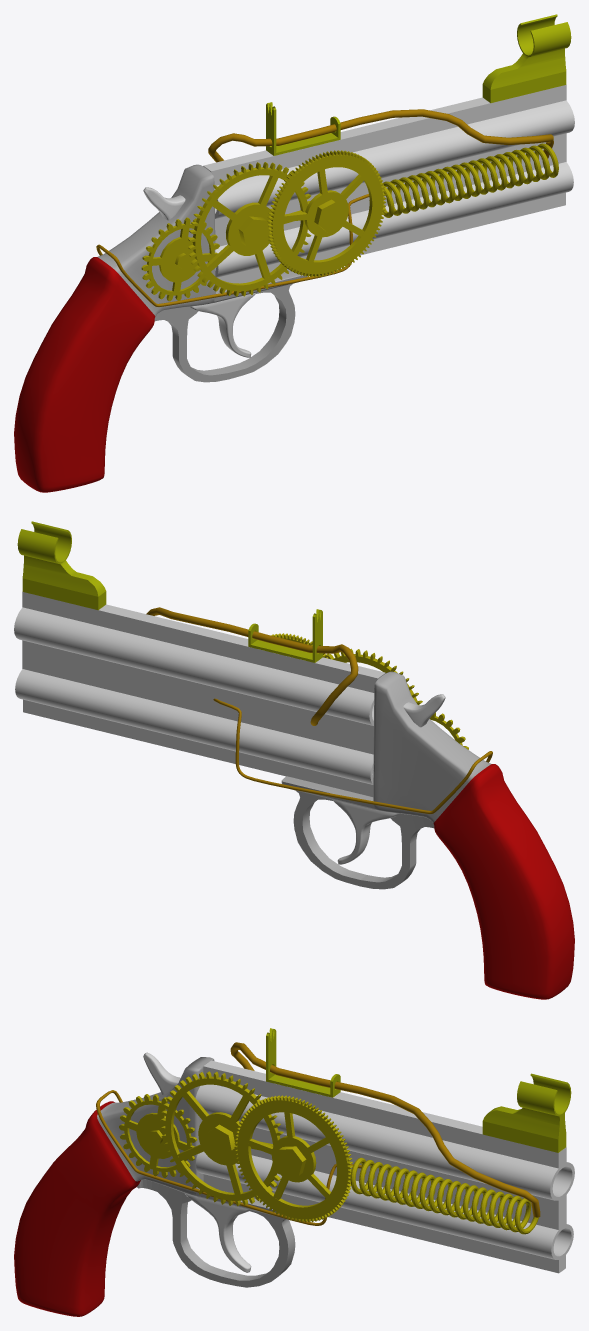
The model's file is pistol.fbx.
The picture shows the model from 3 angles, top to bottom: view 1: azimuth 30°, elevation 25°; view 2: azimuth 150°, elevation 25°; view 3: azimuth 330°, elevation 25°; orthographic projection.
Parts seen in each view (by area): view 1: pCube1, pPipe3, pCube8, polySurface9, pHelix1, pPipe7, polySurface11, pCylinder7, pCube6, pCube5, pCylinder6, pCube7; view 2: pPipe3, pCube1, pPipe7, pCylinder7, pCylinder6, pCube6, pCube5, polySurface9, pCube7; view 3: pPipe3, pCube1, pCube8, polySurface9, pHelix1, pPipe7, pCylinder7, polySurface11, pCube6, pCube5, pCylinder6, pCube7.
Part boxes in pixels (x1=…): pCube1: x1=14, y1=164, x2=306, y2=492; pPipe3: x1=203, y1=85, x2=574, y2=289; pCube8: x1=267, y1=150, x2=386, y2=277; polySurface9: x1=188, y1=162, x2=311, y2=296; pHelix1: x1=369, y1=143, x2=558, y2=217; pPipe7: x1=482, y1=14, x2=571, y2=103; polySurface11: x1=141, y1=217, x2=219, y2=301; pCylinder7: x1=208, y1=109, x2=553, y2=162; pCube6: x1=190, y1=292, x2=256, y2=357; pCube5: x1=266, y1=102, x2=340, y2=155; pCylinder6: x1=96, y1=193, x2=369, y2=306; pCube7: x1=143, y1=187, x2=185, y2=220; pPipe3: x1=14, y1=592, x2=385, y2=796; pCube1: x1=281, y1=671, x2=574, y2=999; pPipe7: x1=17, y1=521, x2=106, y2=610; pCylinder7: x1=146, y1=607, x2=358, y2=725; pCylinder6: x1=213, y1=698, x2=492, y2=813; pCube6: x1=332, y1=799, x2=398, y2=864; pCube5: x1=248, y1=609, x2=322, y2=662; polySurface9: x1=327, y1=648, x2=422, y2=704; pCube7: x1=403, y1=694, x2=445, y2=727; pPipe3: x1=195, y1=1060, x2=574, y2=1273; pCube1: x1=14, y1=1057, x2=295, y2=1316; pCube8: x1=234, y1=1095, x2=352, y2=1222; polySurface9: x1=160, y1=1071, x2=283, y2=1206; pHelix1: x1=350, y1=1157, x2=538, y2=1234; pPipe7: x1=482, y1=1073, x2=571, y2=1152; pCylinder7: x1=230, y1=1042, x2=540, y2=1217; polySurface11: x1=119, y1=1094, x2=197, y2=1177; pCube6: x1=184, y1=1193, x2=251, y2=1272; pCube5: x1=266, y1=1028, x2=340, y2=1097; pCylinder6: x1=96, y1=1090, x2=361, y2=1225; pCube7: x1=143, y1=1052, x2=180, y2=1094.
Size of the model in its own units: 9.21 by 5.52 by 1.13.
